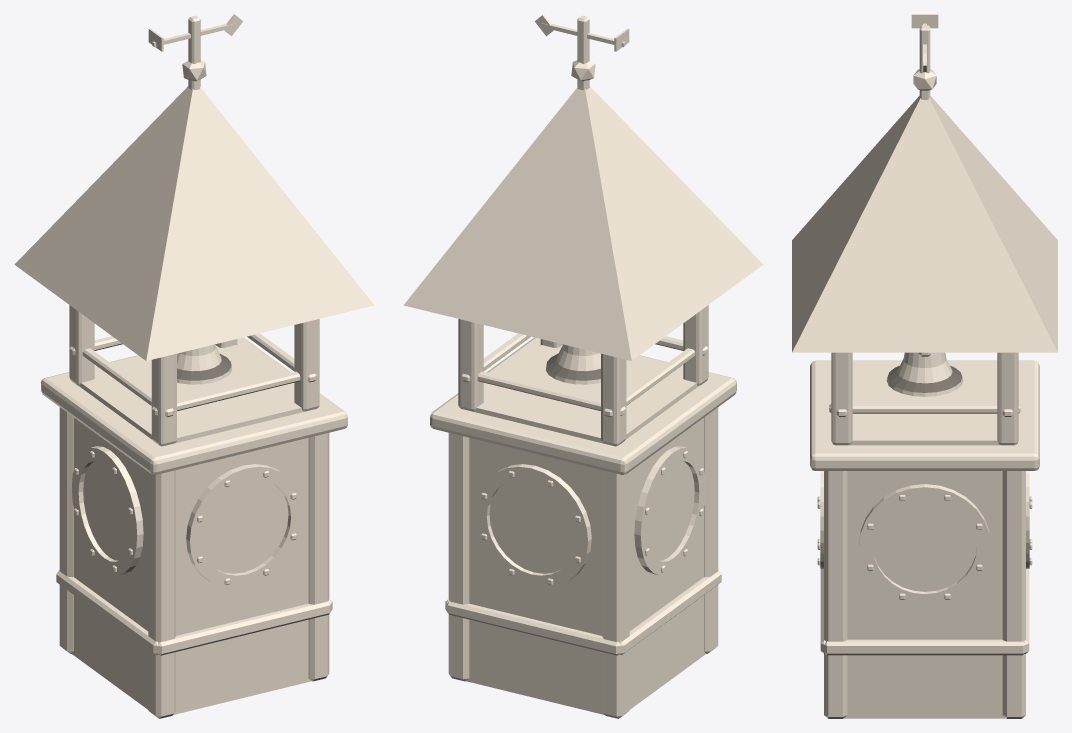
Rendered from SM_VK_Roof_Cupola.fbx.
3 views of the same model, side by side, from view 1: azimuth 30°, elevation 25°; view 2: azimuth 150°, elevation 25°; view 3: azimuth 270°, elevation 25° (orthographic).
Parts seen in each view (by area): view 1: SM_VK_Roof_Cupola.001; view 2: SM_VK_Roof_Cupola.001; view 3: SM_VK_Roof_Cupola.001.
Boxes of the visible parts, box(x1,y1,x2,y2) form: SM_VK_Roof_Cupola.001: box(14, 14, 374, 718); SM_VK_Roof_Cupola.001: box(403, 14, 763, 718); SM_VK_Roof_Cupola.001: box(792, 14, 1057, 718).
Bounding box in the file's own units: 2.5 × 6.76 × 2.5.
